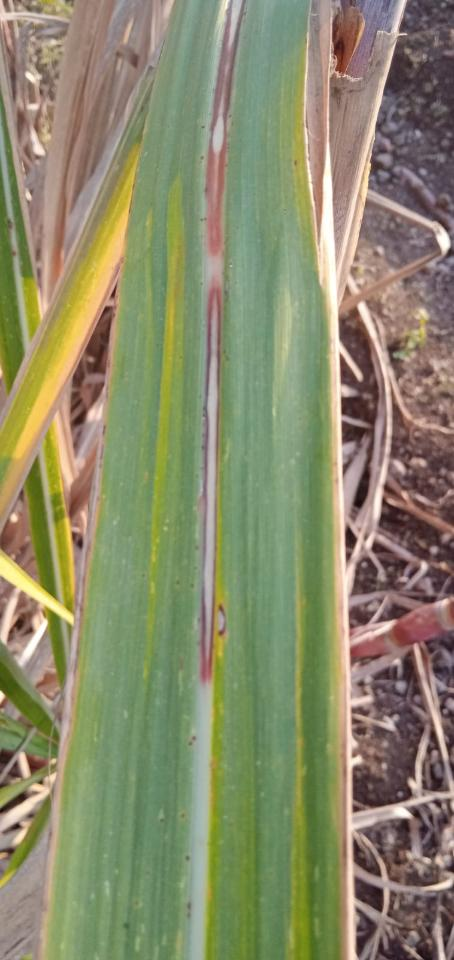RedRot: (199, 0, 250, 690)
